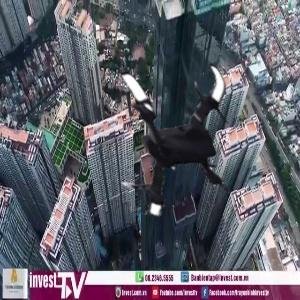drone: (85, 54, 267, 236)
